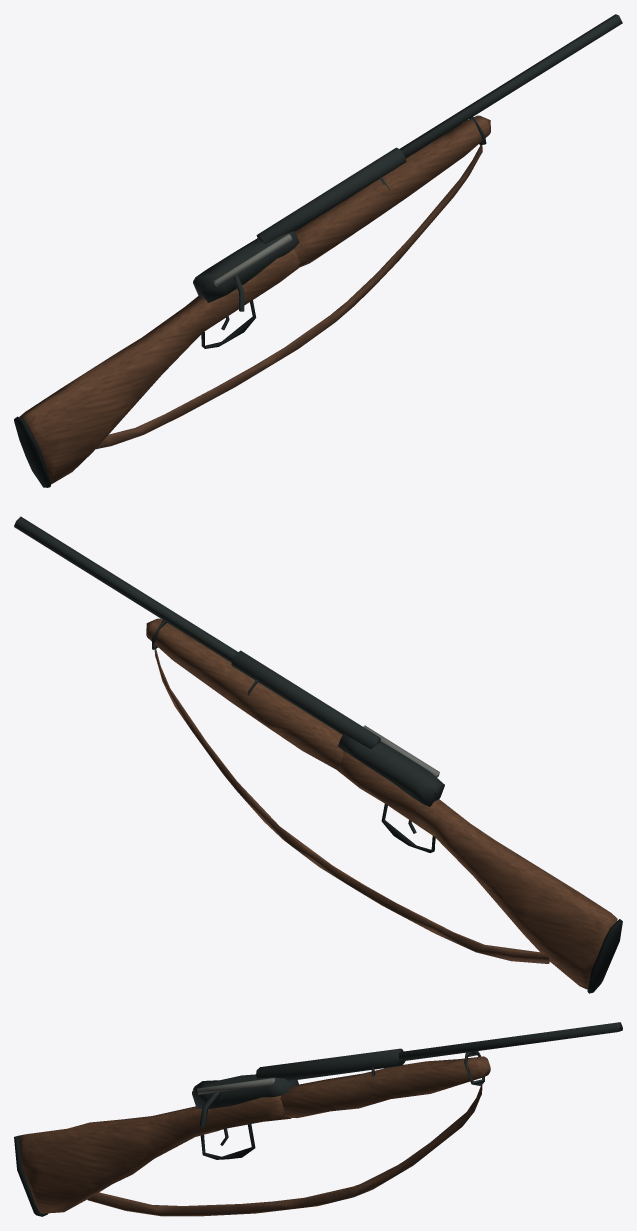
Rendered from rifle.glb.
3 views of the same model, one above another, from view 1: azimuth 30°, elevation 25°; view 2: azimuth 150°, elevation 25°; view 3: azimuth 330°, elevation 25° (orthographic).
Parts seen in each view (by area): view 1: Rifle; view 2: Rifle; view 3: Rifle.
Boxes of the visible parts, <box> form: Rifle: <box>14,14,622,487</box>; Rifle: <box>14,516,622,993</box>; Rifle: <box>14,1022,622,1216</box>.
Size of the model in its own units: 1.09 by 0.5774 by 0.0974.
Materials: 1 (1 with a texture image).
